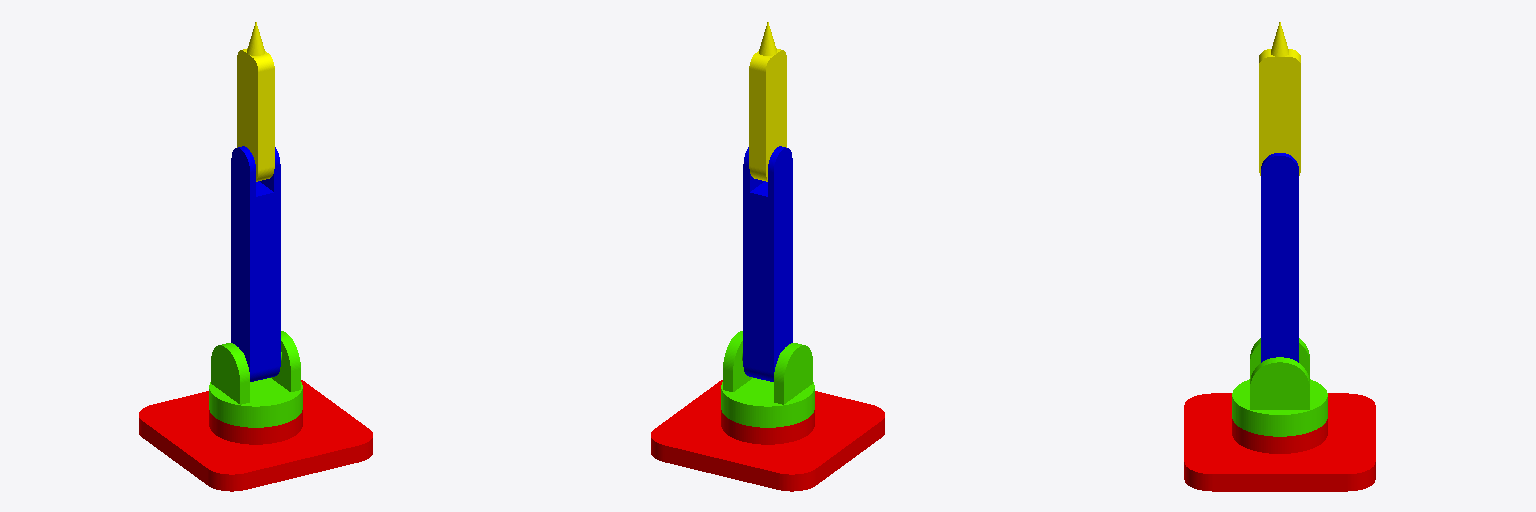
The robot description file, URDF, robot "simple_robot":
<?xml version="1.0"?>
<!-- http://wiki.ros.org/urdf/XML/link  -->
<robot name="simple_robot">

<link name="base_link">
	<visual>
		<geometry>
		   <mesh filename="package://demo_robot/mesh/base_link.dae" /> 
        </geometry>

	<!--origin - the reference frame of the visual element with respect to the reference frame of the link -->
	<!-- rpy - r is roll, p-pitch and y -yaw -->
	<!-- xyz - x,y,z -offsets  -->
		<origin rpy="0 0 0" xyz="0 0 0"/>
	</visual>
</link>


<joint name="joint_1" type="revolute">
    <parent link="base_link"/>
    <child link="first_link"/>
    <origin rpy="0 0 0" xyz="0 0 0.16" />
    <axis xyz="0 0 1"/>
    <limit effort="300" velocity="2.0" lower="-1.57" upper="1.57" />
</joint>

<link name="first_link">
    <visual>
    <geometry>
        <mesh filename="package://demo_robot/mesh/first_link.dae" /> 
    </geometry>
    <origin rpy="0 0 0" xyz="0 0 0 " />
    </visual>
</link>


<joint name="joint_2" type="revolute">
    <parent link="first_link"/>
    <child link="second_link"/>
    <origin rpy="0 0 0" xyz="0 0 0.24"/>
    <axis xyz="1 0 0"/>
    <limit effort="300" velocity="2.0" lower="-1.57" upper="1.57" />
</joint>

<link name="second_link">
    <visual>
    <geometry>
       <mesh filename="package://demo_robot/mesh/second_link.dae" /> 
    </geometry>
    <origin rpy="0 0 0" xyz="0 0 -0.1" />
    </visual>
</link>

<joint name="joint_3" type="revolute">
    <parent link="second_link"/>
    <child link="third_link"/>
    <origin rpy="0 0 0" xyz="0 0 0.94"/>
    <axis xyz="1 0 0"/>
    <limit effort="300" velocity="2.0" lower="-1.57" upper="1.57" />
</joint>

<link name="third_link">
    <visual>
    <geometry>
       <mesh filename="package://demo_robot/mesh/third_link.dae" /> 
    </geometry>
    <origin rpy="0 0 0" xyz="0 0 -0.1" />
    </visual>
</link>

</robot> 

--- Facts derived from the render (not from the file) ---
Views: 3 orthographic renders of the robot side by side, from view 1: azimuth 30°, elevation 25°; view 2: azimuth 150°, elevation 25°; view 3: azimuth 270°, elevation 25°.
Model simple_robot with 4 links and 3 joints (3 revolute), rooted at base_link, posed every joint at zero.
Links seen in each view (by area): view 1: base_link, second_link, first_link, third_link; view 2: base_link, second_link, first_link, third_link; view 3: base_link, second_link, first_link, third_link.
Link boxes in pixels (bbox=[...]): base_link: bbox=[139, 380, 372, 491]; second_link: bbox=[231, 146, 280, 381]; first_link: bbox=[209, 331, 302, 427]; third_link: bbox=[237, 22, 274, 181]; base_link: bbox=[651, 380, 884, 491]; second_link: bbox=[743, 146, 792, 381]; first_link: bbox=[721, 331, 814, 427]; third_link: bbox=[749, 22, 786, 181]; base_link: bbox=[1184, 393, 1375, 491]; second_link: bbox=[1261, 153, 1298, 362]; first_link: bbox=[1232, 338, 1327, 436]; third_link: bbox=[1259, 22, 1300, 175].
Bounding box of the posed robot: 0.8 × 0.8 × 1.99 m (x, y, z).
4 mesh visuals loaded from 4 distinct referenced files (4 Collada DAE).
